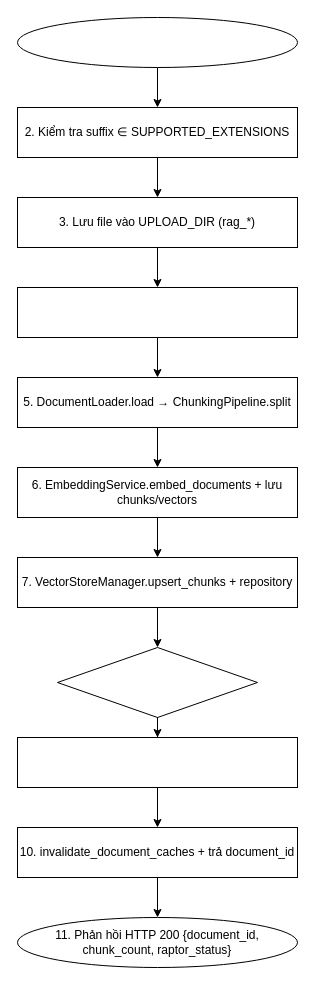
Some shapes in this 315 by 985 pixel diagram are drawn without their labels. The centre of each missing label's shape, as x and y in pixels:
"1. Người dùng: POST /rag/documents/upload (multipart)" belongs at (157,42).
"4. asyncio.to_thread → RAGChatService.upload_document" belongs at (157,312).
"8. RAG_USE_RAPTOR?" belongs at (157,682).
"9. Dựng RAPTOR (sync hoặc Celery background)" belongs at (157,762).
